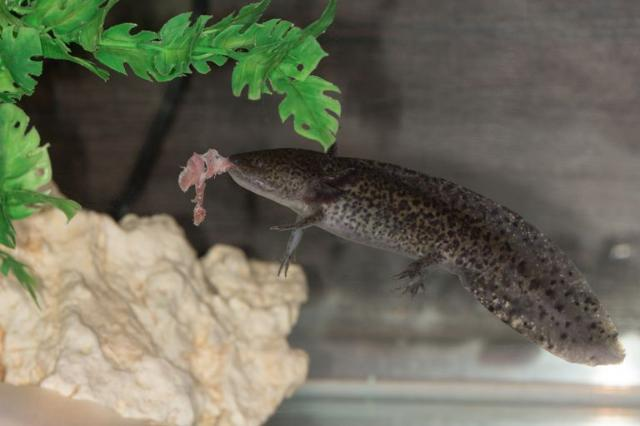Sirip Ekor: (496, 254, 638, 386)
